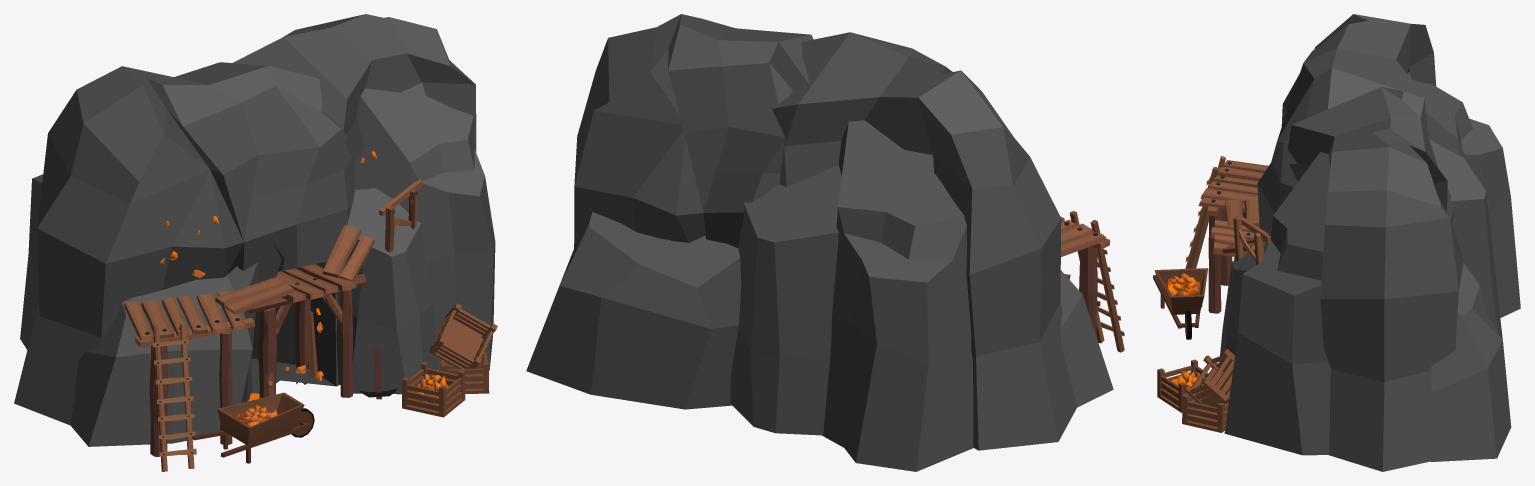
File: iron_mine_3.fbx
3 renders of one model, left to right at view 1: azimuth 30°, elevation 25°; view 2: azimuth 150°, elevation 25°; view 3: azimuth 270°, elevation 25°, orthographic. The views are drawn at different scales.
Parts seen in each view (by area): view 1: rock.003, box.006, ledder.001, box.009, box.007, log_2.008, box.008, iron_stones; view 2: rock.003, ledder.001, log_2.008; view 3: rock.003, box.006, box.009, box.007, box.008, ledder.001, log_2.008.
Part boxes in pixels (x1,y1,x2,y2): rock.003: [14, 14, 495, 446]; box.006: [192, 392, 314, 463]; ledder.001: [152, 323, 196, 471]; box.009: [429, 303, 497, 374]; box.007: [402, 362, 465, 417]; log_2.008: [149, 346, 168, 456]; box.008: [440, 346, 489, 393]; iron_stones: [160, 151, 376, 400]; rock.003: [526, 14, 1113, 471]; ledder.001: [1069, 211, 1124, 352]; log_2.008: [1079, 246, 1097, 337]; rock.003: [1198, 14, 1520, 471]; box.006: [1153, 268, 1208, 339]; box.009: [1183, 348, 1234, 406]; box.007: [1157, 359, 1208, 412]; box.008: [1182, 380, 1229, 432]; ledder.001: [1185, 156, 1225, 268]; log_2.008: [1220, 209, 1232, 285].
Size of the model in its own units: 455 by 299 by 324.
